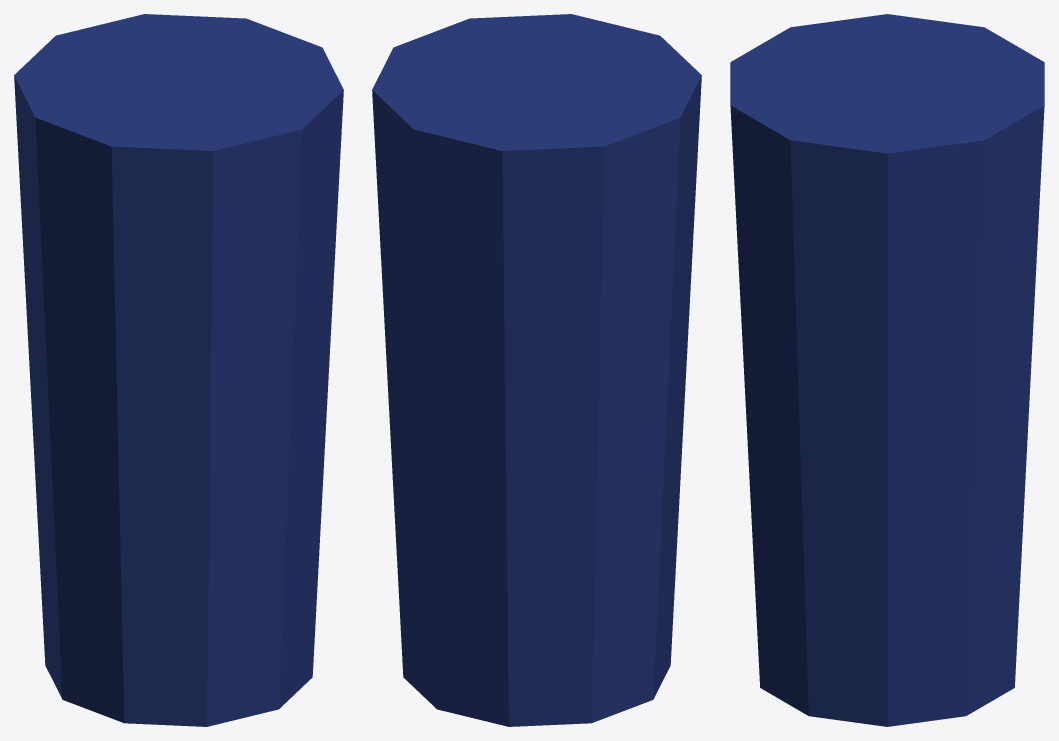
The model's file is gear_wizard_skirt_leg_l.glb.
3 views of the same model, side by side, from view 1: azimuth 30°, elevation 25°; view 2: azimuth 150°, elevation 25°; view 3: azimuth 270°, elevation 25° (orthographic).
Visible parts, largest first — view 1: gear_wizard_skirt_leg_l; view 2: gear_wizard_skirt_leg_l; view 3: gear_wizard_skirt_leg_l.
Part boxes in pixels (left/top/right/bottom): gear_wizard_skirt_leg_l: left=14, top=14, right=343, bottom=726; gear_wizard_skirt_leg_l: left=372, top=14, right=701, bottom=726; gear_wizard_skirt_leg_l: left=730, top=14, right=1044, bottom=726.
Size of the model in its own units: 0.148 by 0.29 by 0.1408.
